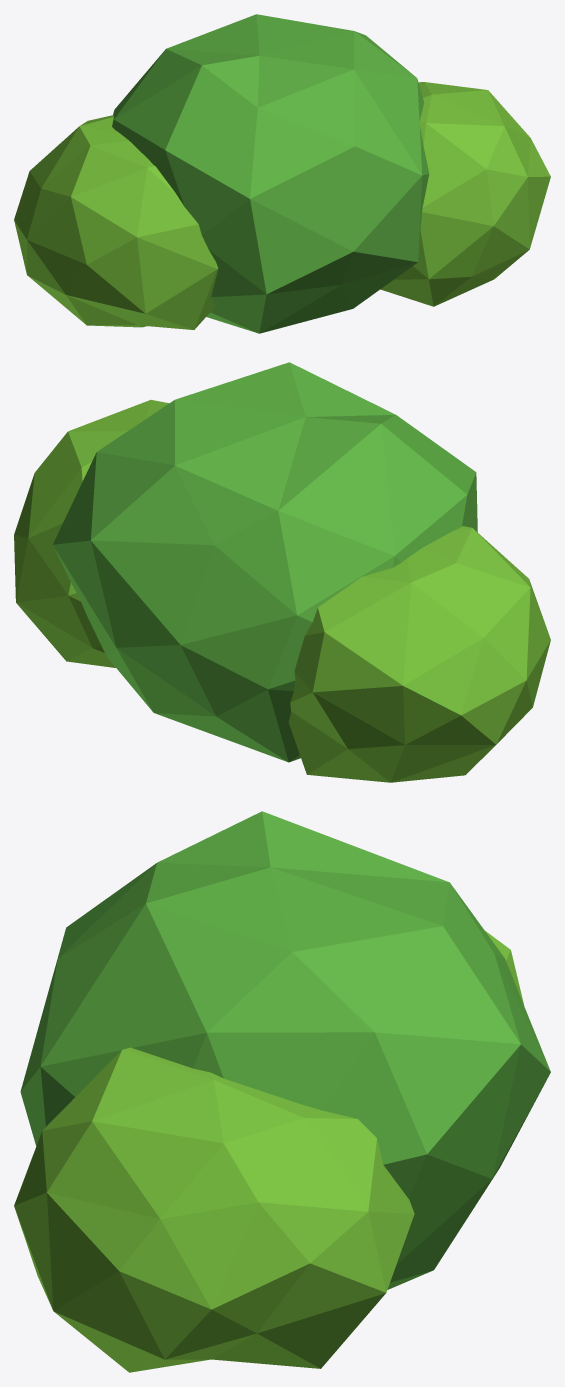
The model's file is arbusto_v3.glb.
3 renders of one model, top to bottom at view 1: azimuth 30°, elevation 25°; view 2: azimuth 150°, elevation 25°; view 3: azimuth 270°, elevation 25°, orthographic. The views are drawn at different scales.
Visible parts, largest first — view 1: bola_1, bola_3, bola_2; view 2: bola_1, bola_3, bola_2; view 3: bola_1, bola_2.
Boxes of the visible parts, x1,y1,x2,y2 form: bola_1: [112, 14, 429, 333]; bola_3: [14, 115, 218, 329]; bola_2: [380, 82, 550, 306]; bola_1: [53, 362, 477, 762]; bola_3: [288, 526, 550, 782]; bola_2: [14, 400, 168, 667]; bola_1: [20, 811, 550, 1289]; bola_2: [14, 1047, 414, 1372].
Bounding box in the file's own units: 2.09 × 1.23 × 1.37.
